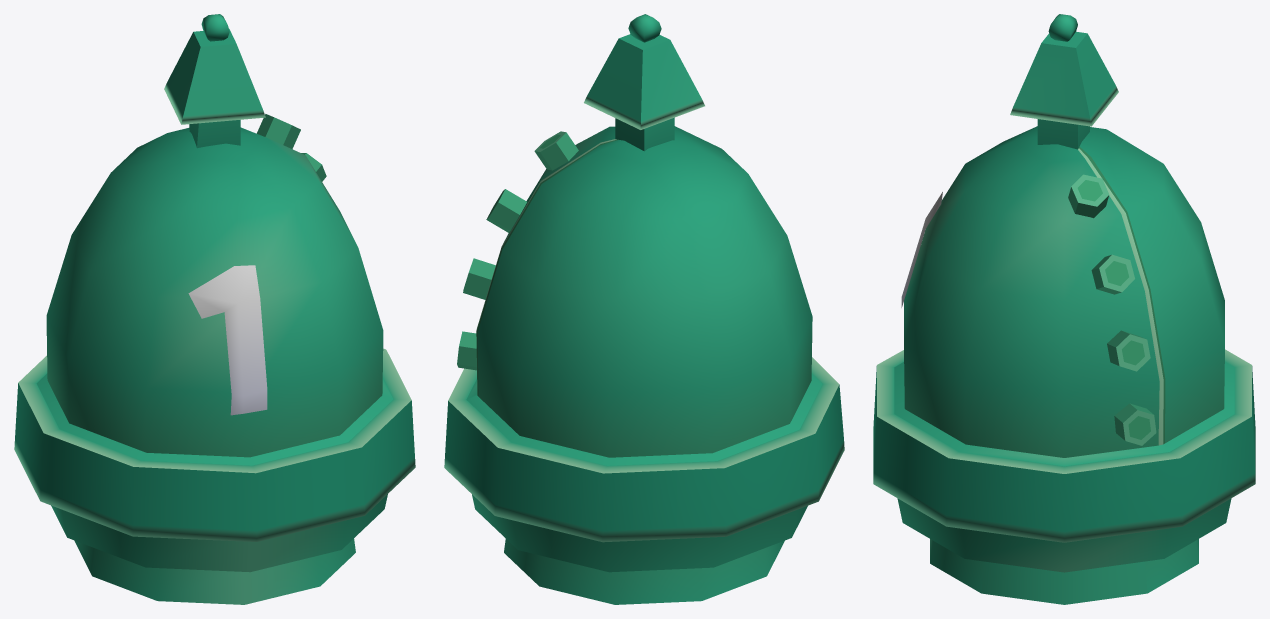
File: buoyOne_0.glb
3 views of the same model, side by side, from view 1: azimuth 30°, elevation 25°; view 2: azimuth 150°, elevation 25°; view 3: azimuth 270°, elevation 25° (orthographic).
Parts seen in each view (by area): view 1: buoyOne; view 2: buoyOne; view 3: buoyOne.
Boxes of the visible parts, x1,y1,x2,y2 form: buoyOne: (14, 14, 415, 604); buoyOne: (444, 14, 844, 604); buoyOne: (873, 14, 1255, 604).
Size of the model in its own units: 0.6018 by 0.8748 by 0.5724.
